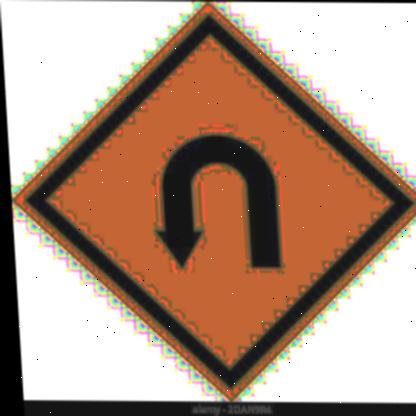U-turn: (10, 7, 416, 391)
